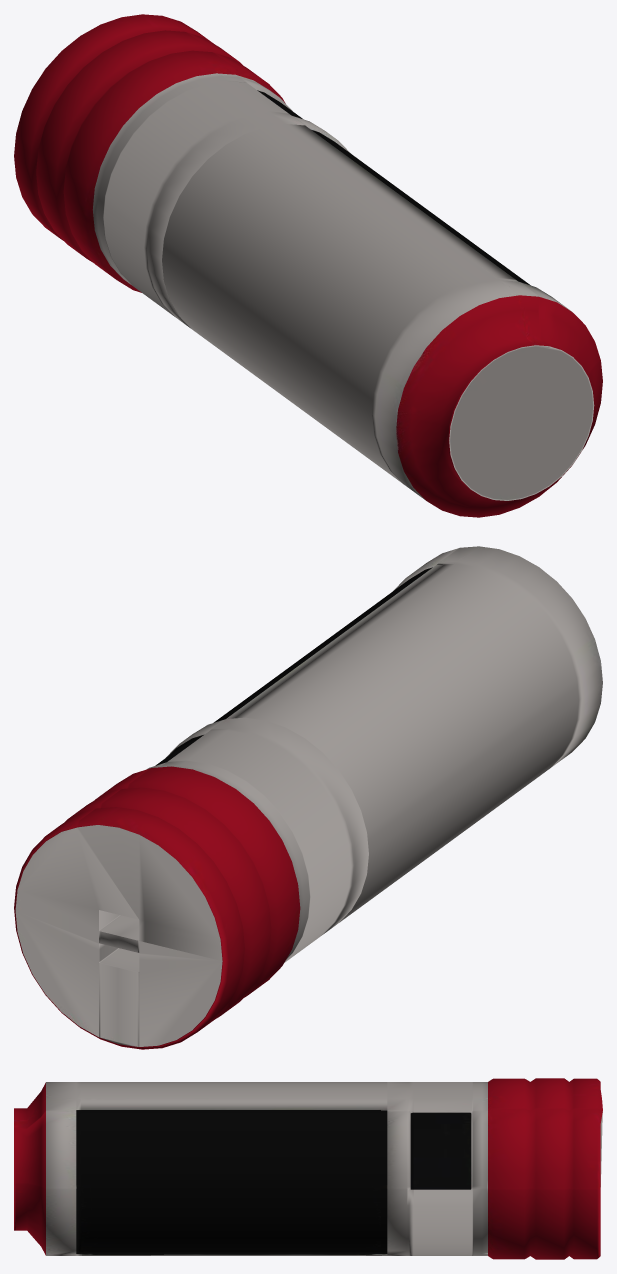
File: cleanMTT.fbx
The picture shows the model from 3 angles, top to bottom: view 1: azimuth 30°, elevation 25°; view 2: azimuth 150°, elevation 25°; view 3: azimuth 270°, elevation 25°; orthographic projection. The views are drawn at different scales.
Parts seen in each view (by area): view 1: Meow-tiTool; view 2: Meow-tiTool; view 3: Meow-tiTool.
Boxes of the visible parts, x1,y1,x2,y2 form: Meow-tiTool: [14, 14, 602, 517]; Meow-tiTool: [14, 546, 602, 1049]; Meow-tiTool: [14, 1078, 602, 1259].
Size of the model in its own units: 209 by 209 by 676.
Materials: 1 (1 with a texture image).
